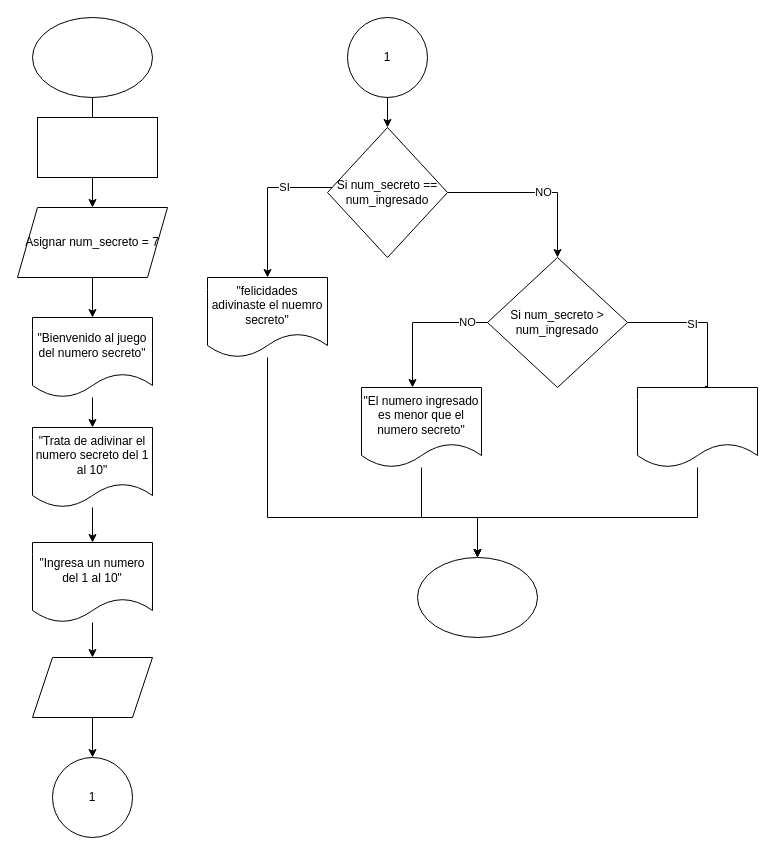
This 775x855 diagram has some shape labels left out. Each missing label, with the centre of its shape:
"El numero ingresado es mayor que el numero secreto": point 697,427
Asignar el num_ingresado: point 92,687
Declarar num_secret, num_ingresado: point 97,147
Fin: point 477,597
Inicio: point 92,57
